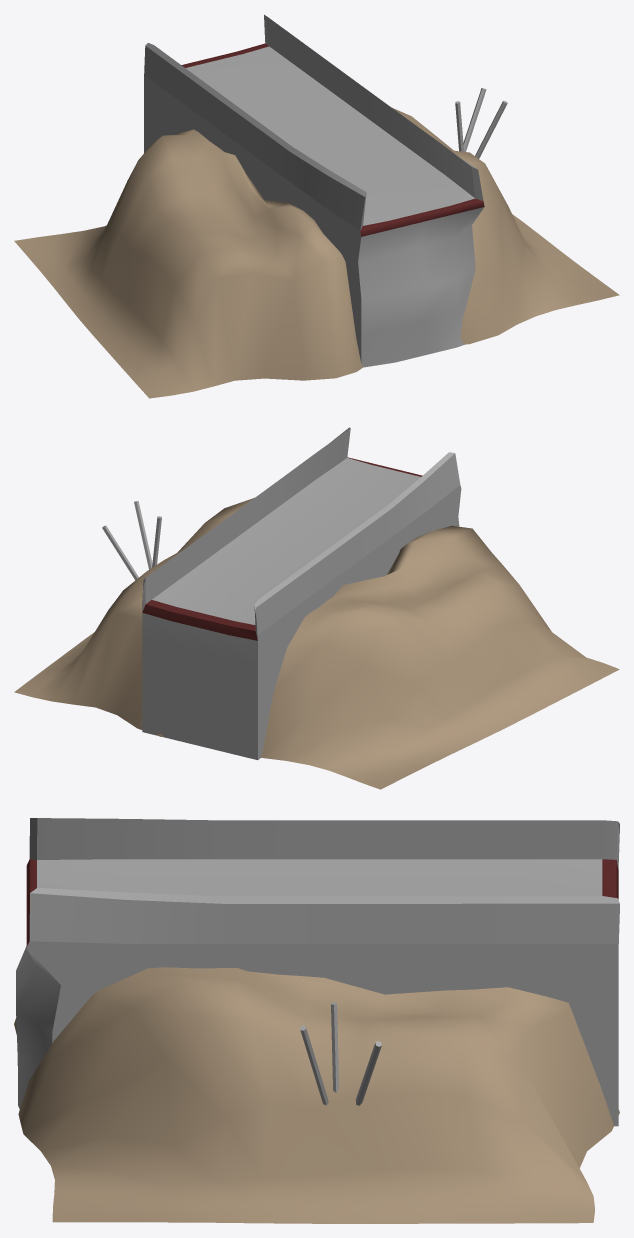
File: high_prototype.fbx
The picture shows the model from 3 angles, top to bottom: view 1: azimuth 30°, elevation 25°; view 2: azimuth 150°, elevation 25°; view 3: azimuth 270°, elevation 25°; orthographic projection. The views are drawn at different scales.
Visible parts, largest first — view 1: dustPile2, high, dustPile1; view 2: dustPile2, high, dustPile1; view 3: dustPile1, high, pipe2, pipe.
Boxes of the visible parts, bbox=[...] form: dustPile2: bbox=[14, 129, 363, 398]; high: bbox=[144, 14, 484, 367]; dustPile1: bbox=[392, 108, 619, 344]; dustPile2: bbox=[261, 525, 619, 789]; high: bbox=[142, 427, 461, 760]; dustPile1: bbox=[14, 497, 254, 737]; dustPile1: bbox=[18, 967, 619, 1223]; high: bbox=[16, 818, 619, 1126]; pipe2: bbox=[331, 1002, 338, 1092]; pipe: bbox=[300, 1025, 328, 1105].
Bounding box in the file's own units: 490 × 175 × 409.
